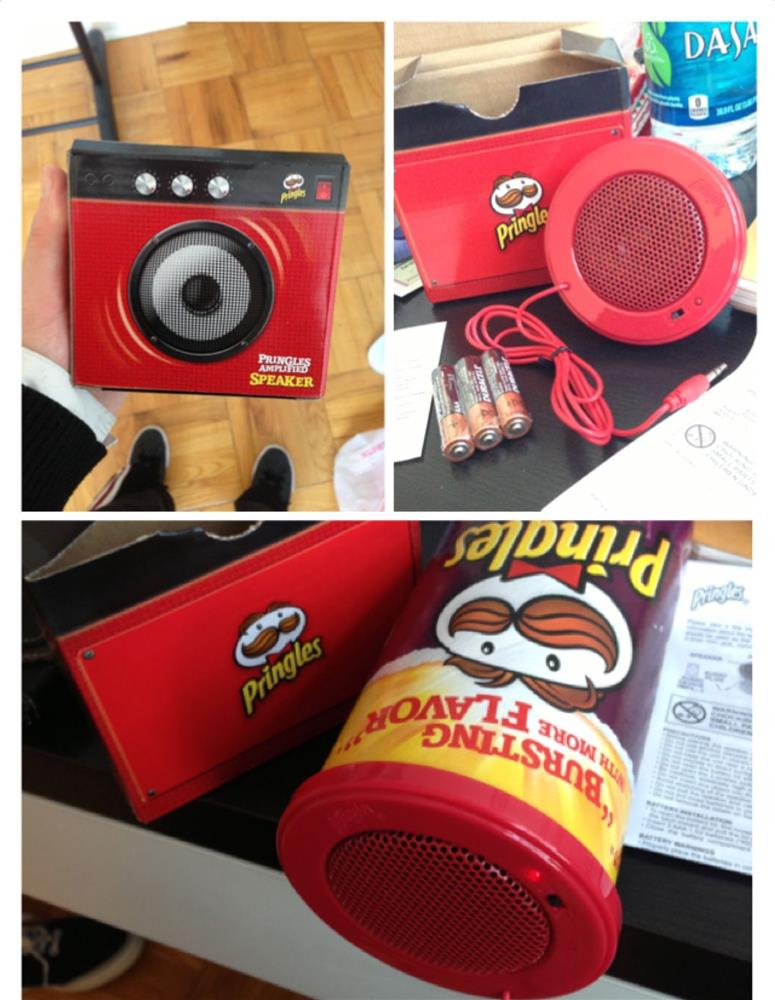pringles: (424, 548, 634, 705)
